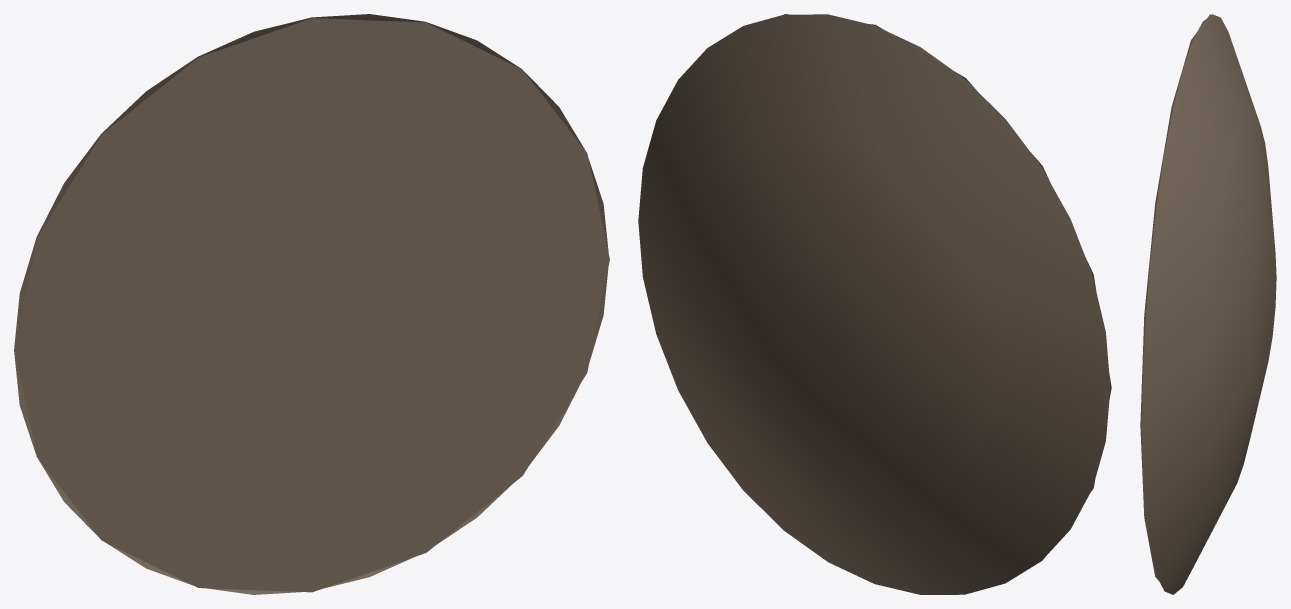
File: xion_shield_round_back.dae
3 renders of one model, left to right at view 1: azimuth 30°, elevation 25°; view 2: azimuth 150°, elevation 25°; view 3: azimuth 270°, elevation 25°, orthographic. The views are drawn at different scales.
Visible parts, largest first — view 1: Plano_001_001_003; view 2: Plano_001_001_003; view 3: Plano_001_001_003.
Boxes of the visible parts, x1,y1,x2,y2 form: Plano_001_001_003: (14, 14, 609, 594); Plano_001_001_003: (638, 14, 1111, 594); Plano_001_001_003: (1140, 14, 1276, 594).
Bounding box in the file's own units: 1.09 × 0.2574 × 1.1.
